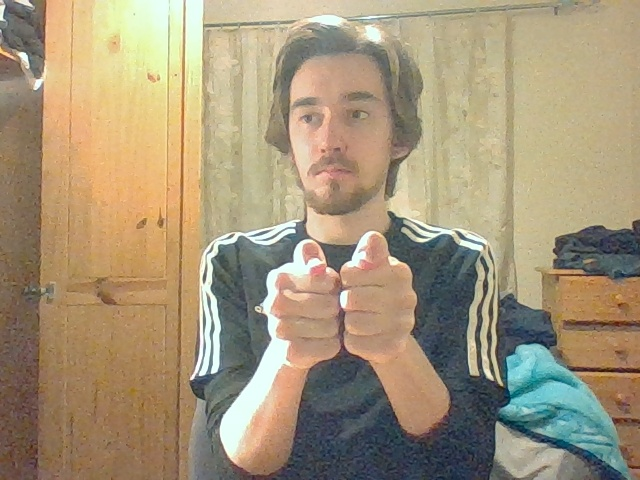brother: (264, 231, 417, 353)
